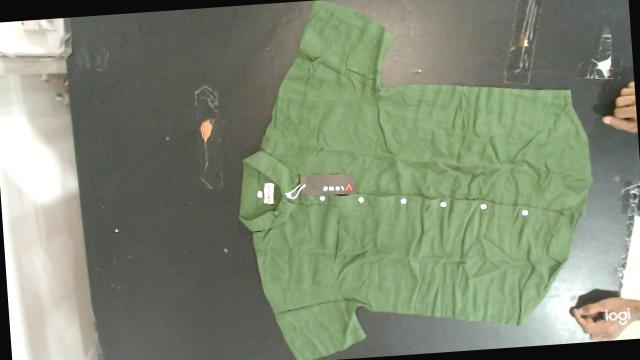new-garment: (239, 0, 590, 360)
